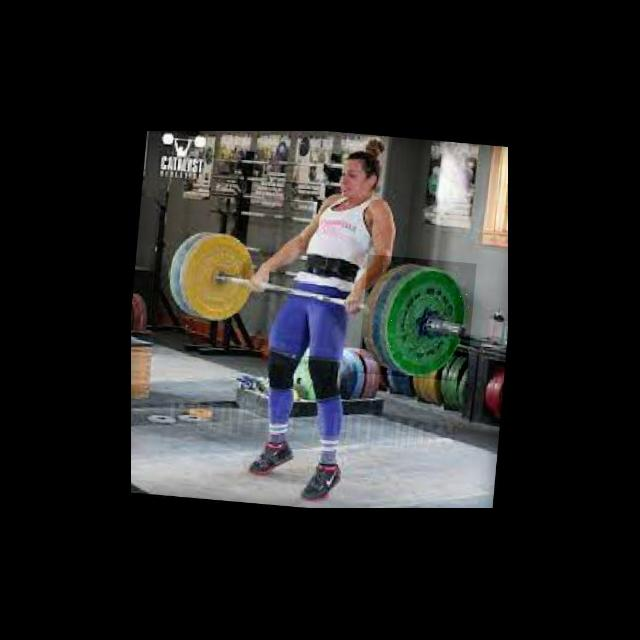barbell: (358, 254, 477, 382)
